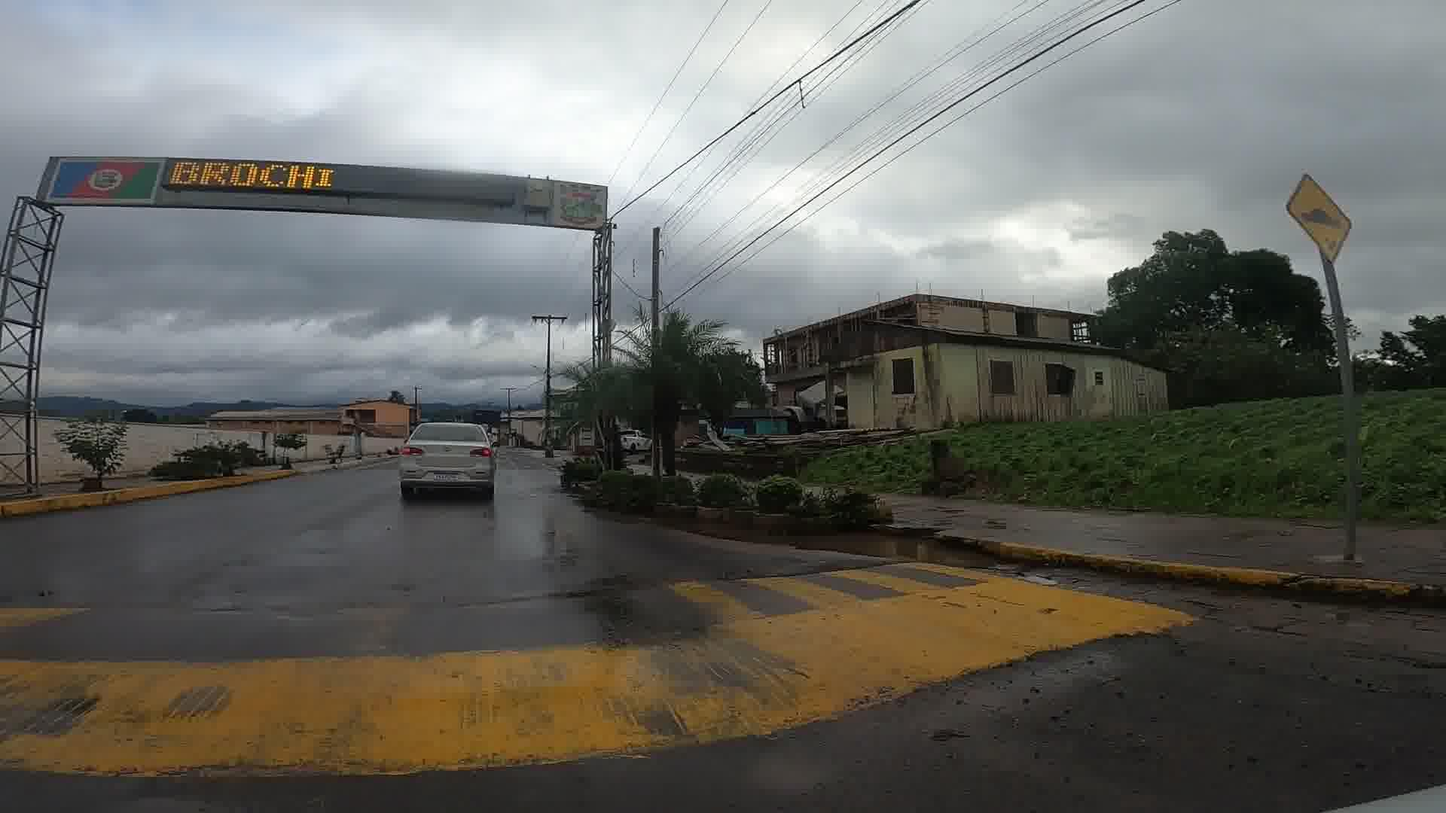A-18: (1283, 177, 1354, 260)
